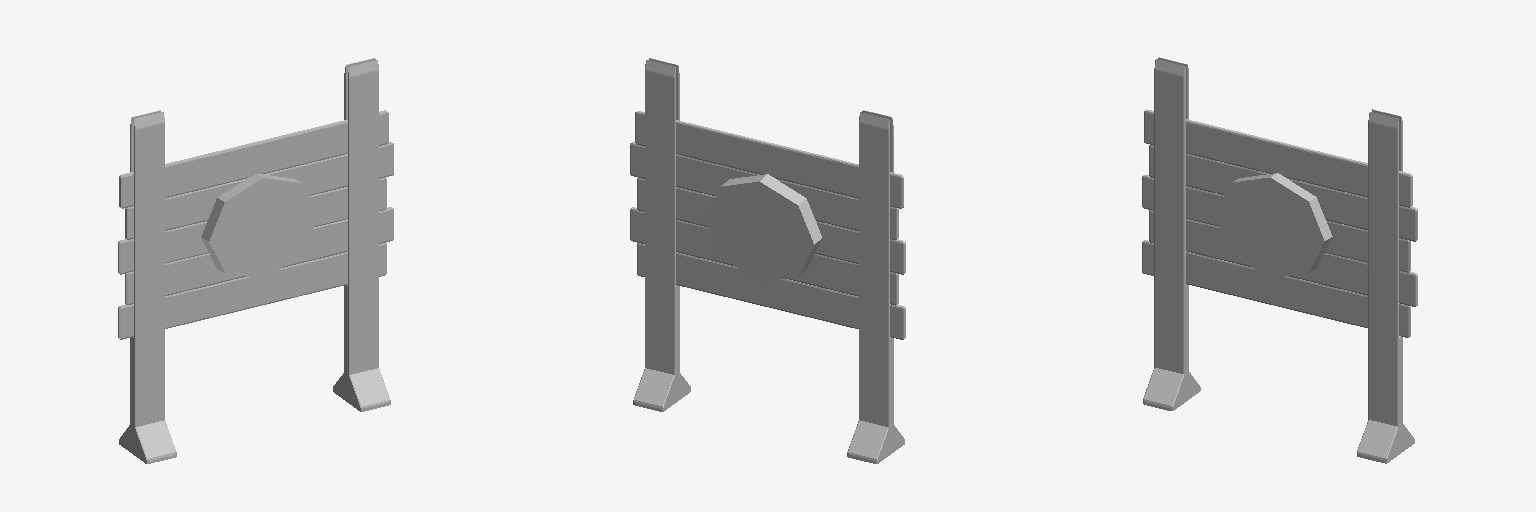
The picture shows the model from 3 angles: view 1: azimuth 30°, elevation 25°; view 2: azimuth 150°, elevation 25°; view 3: azimuth 330°, elevation 25°; orthographic projection.
Parts seen in each view (by area): view 1: low_for_paint_obj:polySurface1, Cylinder; view 2: low_for_paint_obj:polySurface1, Cylinder; view 3: low_for_paint_obj:polySurface1, Cylinder.
Part boxes in pixels (left/top/right/bottom): low_for_paint_obj:polySurface1: left=118, top=58, right=393, bottom=463; Cylinder: left=201, top=174, right=317, bottom=278; low_for_paint_obj:polySurface1: left=630, top=58, right=905, bottom=463; Cylinder: left=705, top=174, right=821, bottom=281; low_for_paint_obj:polySurface1: left=1142, top=57, right=1417, bottom=463; Cylinder: left=1215, top=173, right=1332, bottom=277.
Size of the model in its own units: 65.58 by 76.68 by 11.75.